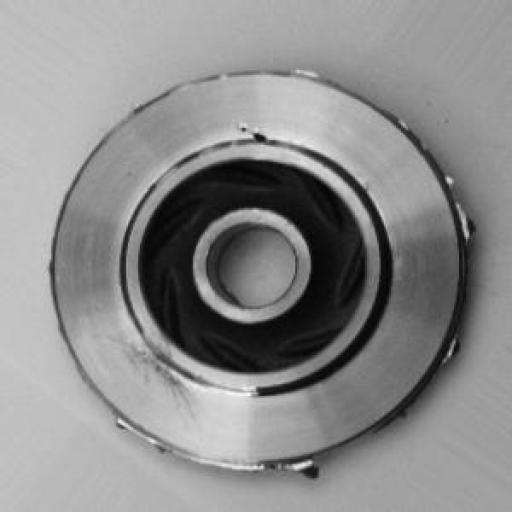defect: (224, 107, 324, 162)
